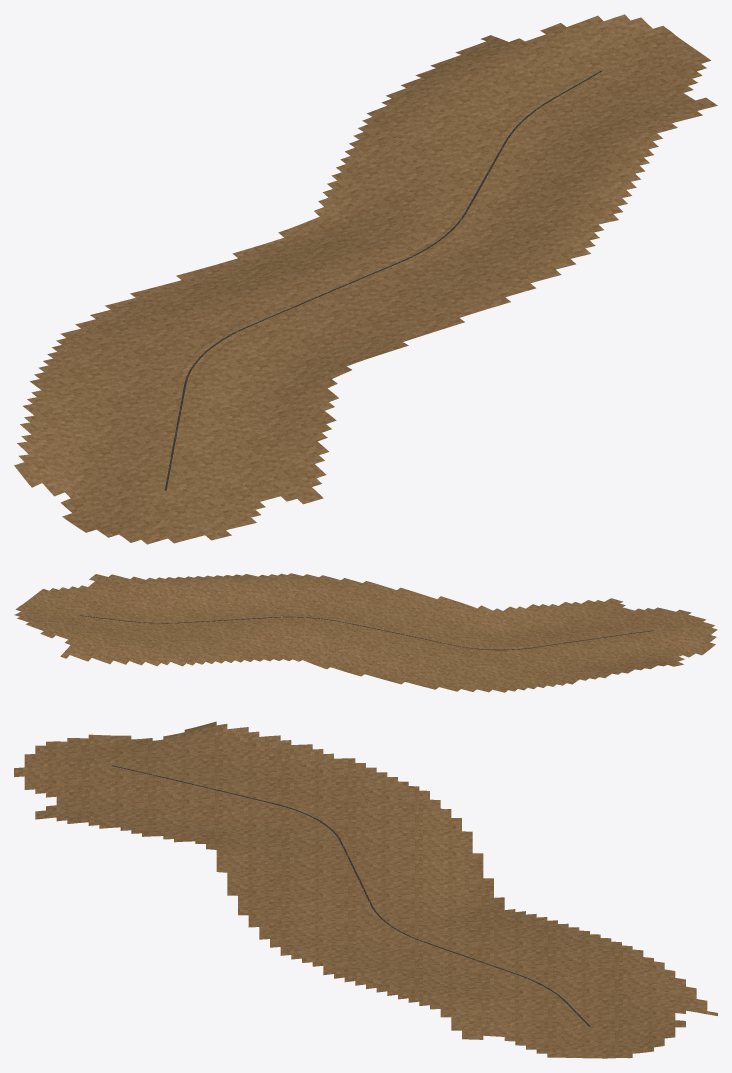
3 renders of one model, top to bottom at view 1: azimuth 30°, elevation 25°; view 2: azimuth 150°, elevation 25°; view 3: azimuth 270°, elevation 25°, orthographic. The views are drawn at different scales.
Parts seen in each view (by area): view 1: S06_TERRAIN_LOD2_WEB_EXPORT, S06_ROAD_ASPHALT_LOD2_WEB_EXPORT; view 2: S06_TERRAIN_LOD2_WEB_EXPORT, S06_ROAD_ASPHALT_LOD2_WEB_EXPORT; view 3: S06_TERRAIN_LOD2_WEB_EXPORT, S06_ROAD_ASPHALT_LOD2_WEB_EXPORT.
Boxes of the visible parts, left/top/right/bottom form: S06_TERRAIN_LOD2_WEB_EXPORT: left=14, top=14, right=717, bottom=544; S06_ROAD_ASPHALT_LOD2_WEB_EXPORT: left=164, top=71, right=601, bottom=490; S06_TERRAIN_LOD2_WEB_EXPORT: left=14, top=573, right=717, bottom=692; S06_ROAD_ASPHALT_LOD2_WEB_EXPORT: left=79, top=615, right=653, bottom=650; S06_TERRAIN_LOD2_WEB_EXPORT: left=14, top=721, right=717, bottom=1058; S06_ROAD_ASPHALT_LOD2_WEB_EXPORT: left=111, top=765, right=590, bottom=1026.
Bounding box in the file's own units: 3400 × 265 × 2640.
Materials: 5 (5 with a texture image).
